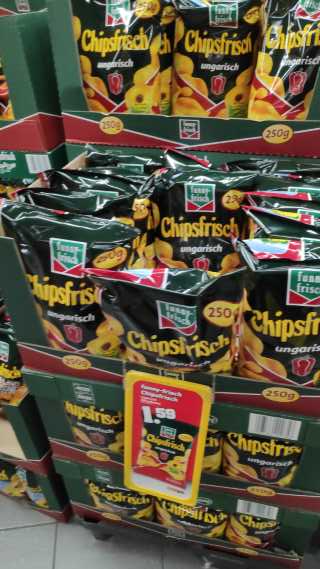chipsfrisch: (1, 197, 130, 355), (84, 264, 240, 372), (173, 1, 262, 118), (72, 1, 160, 116), (156, 169, 255, 269), (240, 267, 320, 381), (247, 5, 320, 119), (222, 431, 300, 488), (65, 397, 124, 456)
